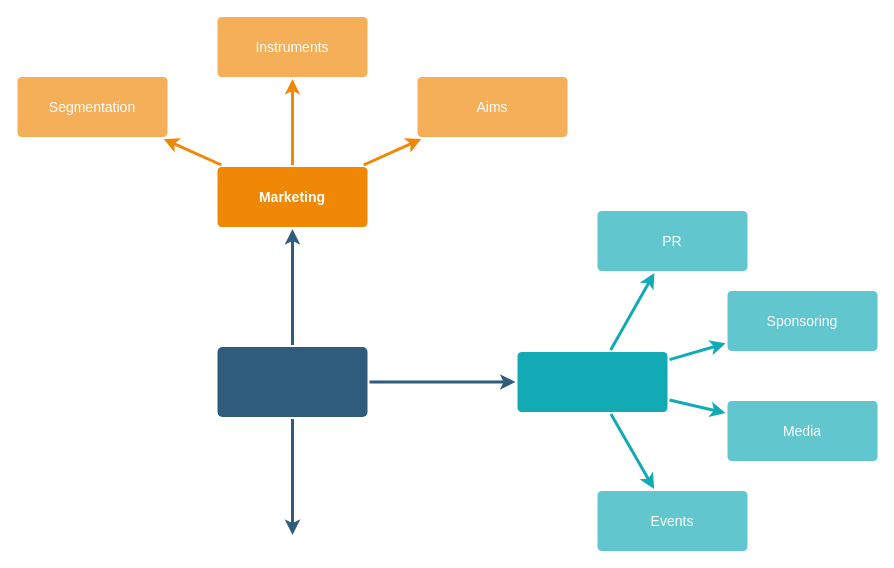
Image size: 894x568. Some labels were removed from this diagram. Each missing label, with the centre of its shape:
Advertising: pixel 292 381
Communication: pixel 592 382
